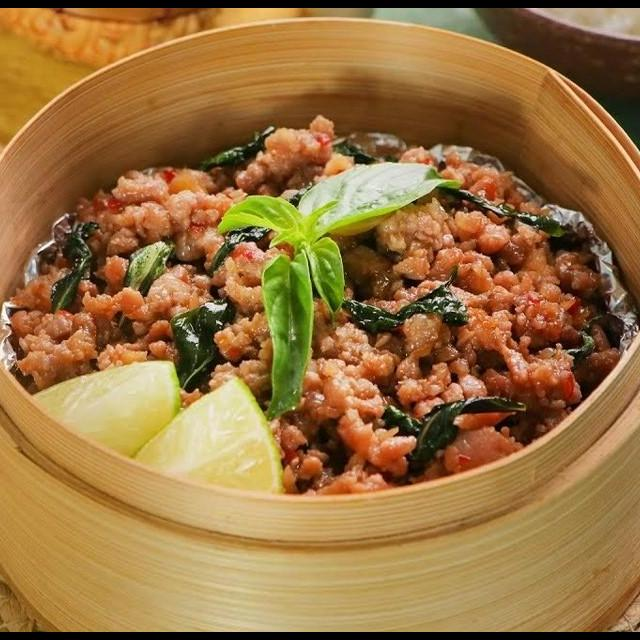thit bam: (264, 113, 640, 503), (0, 105, 339, 402)
